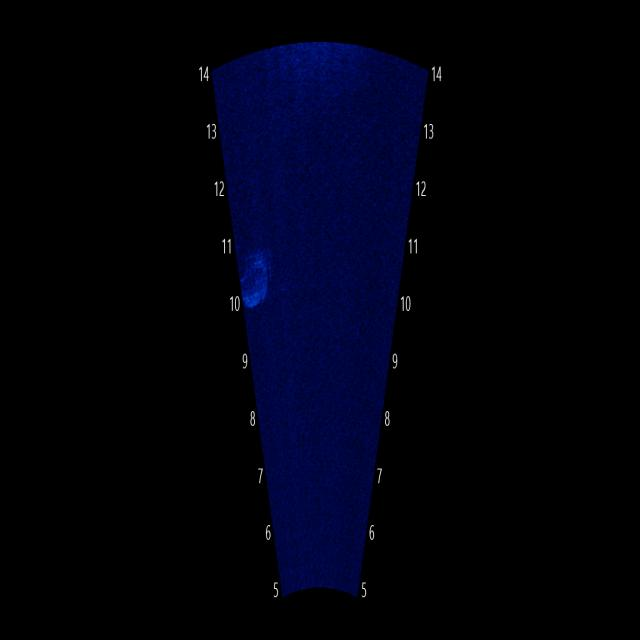circle: (231, 217, 277, 322)
